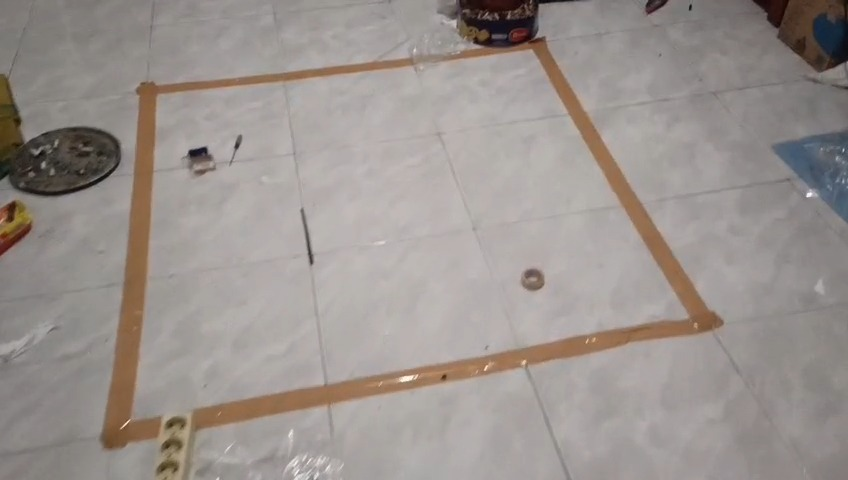floor marking: (192, 38, 722, 428), (101, 59, 413, 447)
